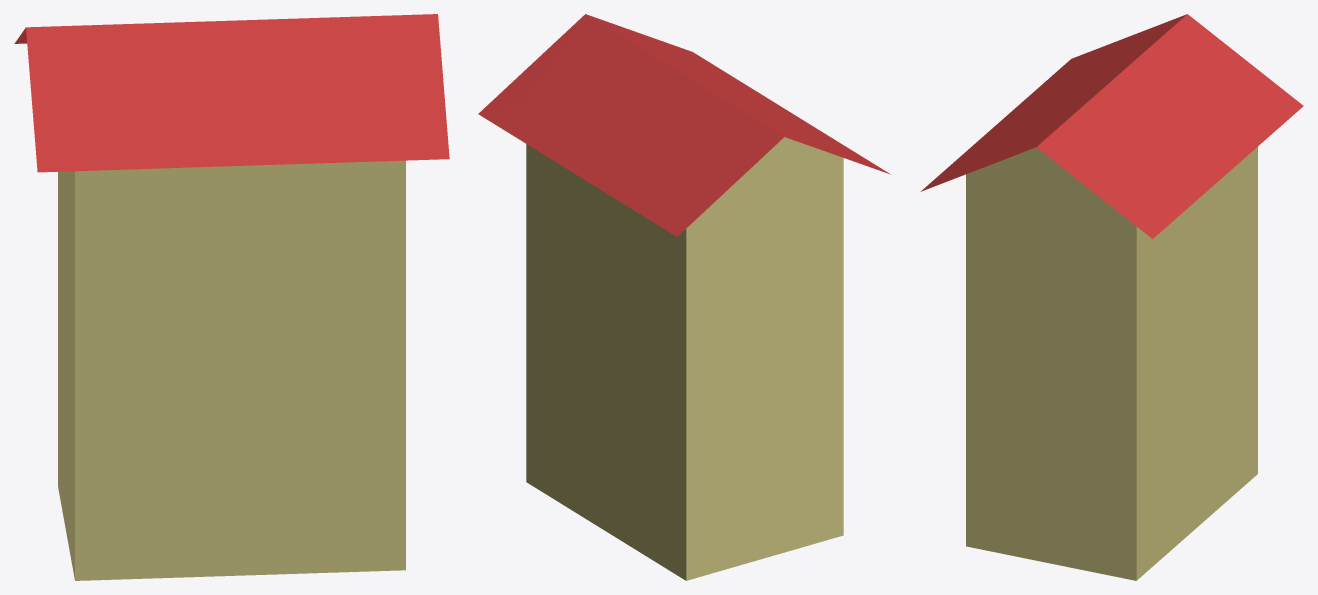
3 renders of one model, left to right at view 1: azimuth 30°, elevation 25°; view 2: azimuth 150°, elevation 25°; view 3: azimuth 270°, elevation 25°, orthographic. The views are drawn at different scales.
Size of the model in its own units: 6.19 by 5.57 by 6.88.
